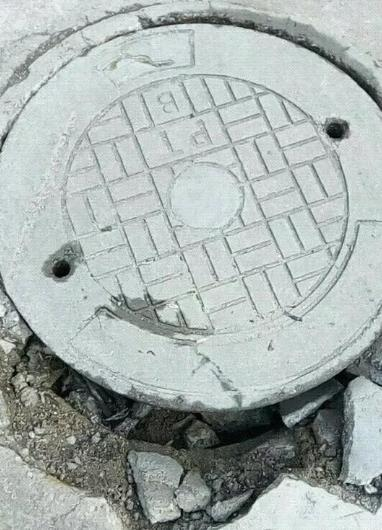wellcover: (2, 18, 382, 418)
